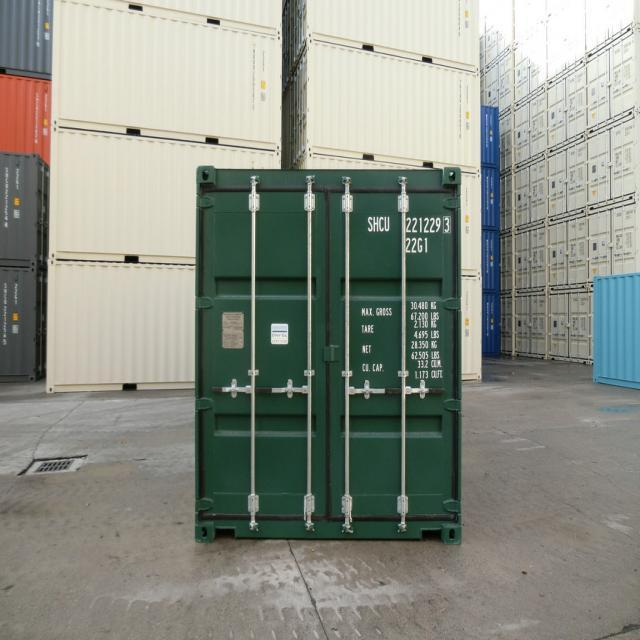container_number_h: (365, 208, 456, 267)
